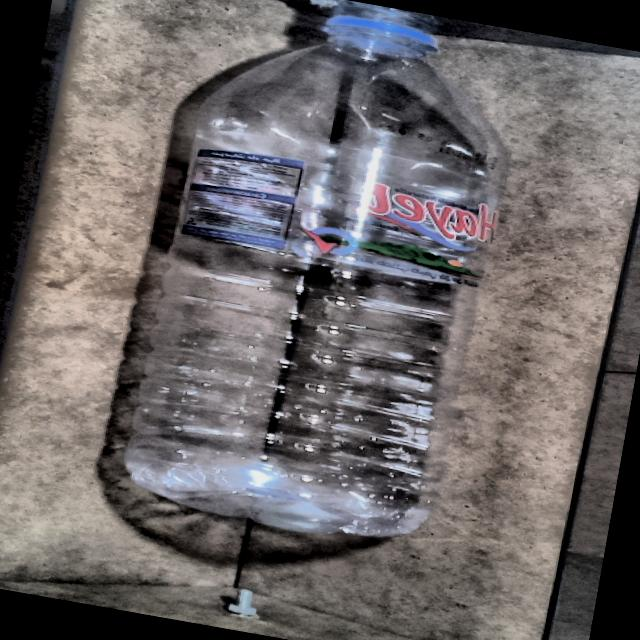plastic bottle: (123, 0, 504, 537)
